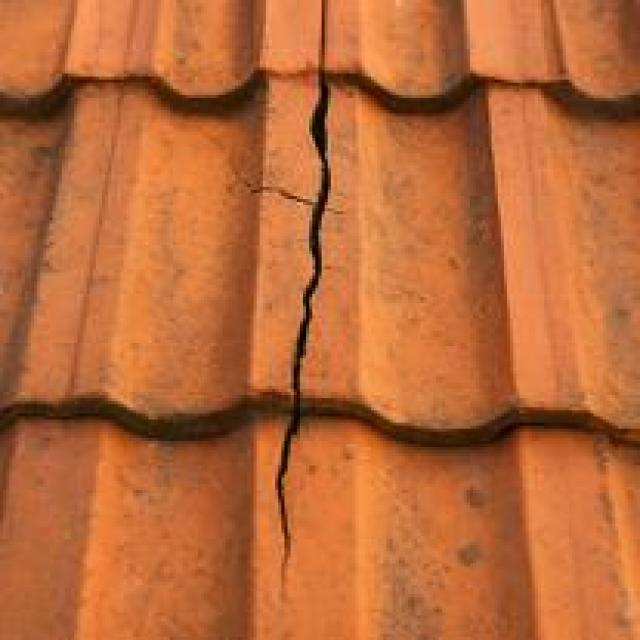fissure: (244, 0, 345, 601)
